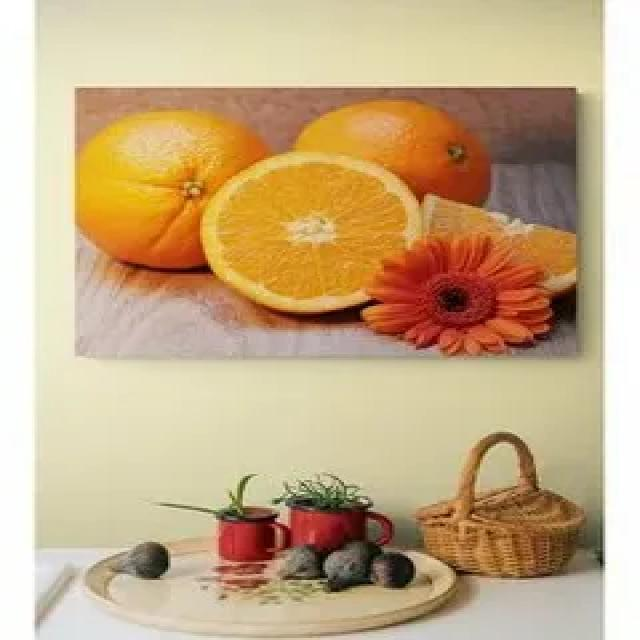orange: (80, 109, 269, 272)
